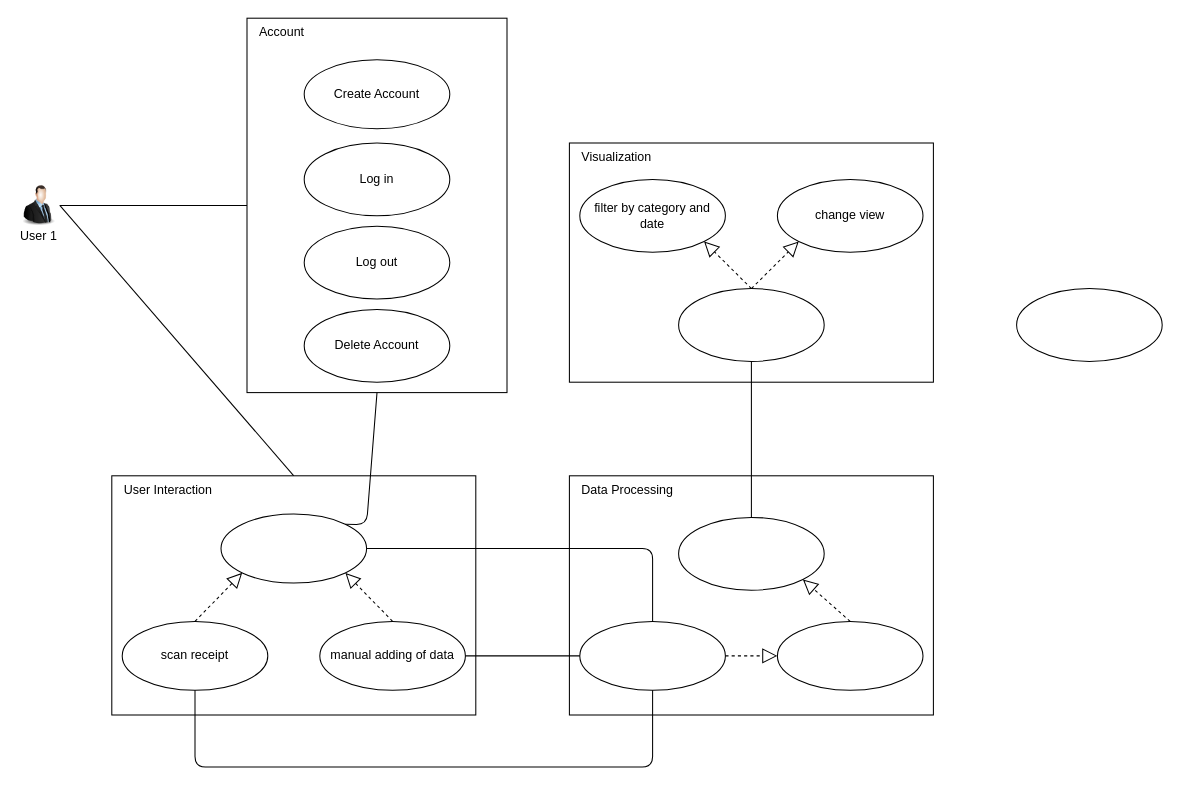
This 1180x786 diagram has some shape labels left out. Each missing label, with the centre of its shape:
add to History: the point at 751,553
calculate expenses per category: the point at 849,655
categorize: the point at 652,655
Generate Dashboard: the point at 751,324
share costs with other users: the point at 293,548
show list of past expenses: the point at 1089,324
